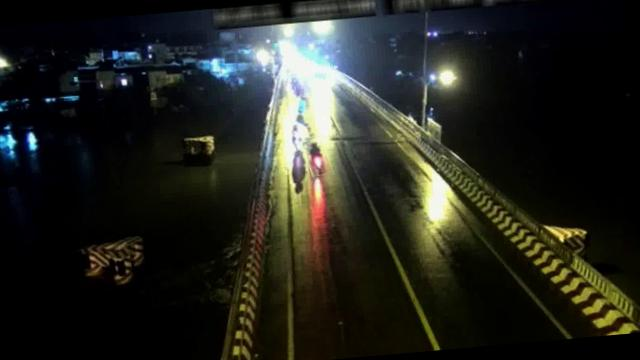Bike: (304, 137, 330, 177), (288, 150, 308, 185), (294, 96, 312, 124)
